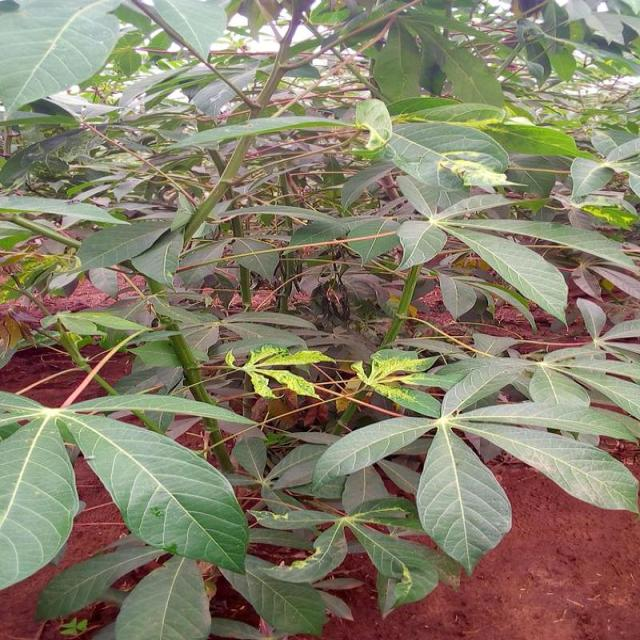cassava leaf: (2, 1, 640, 637), (64, 408, 250, 574), (416, 422, 514, 576), (1, 413, 81, 591)
